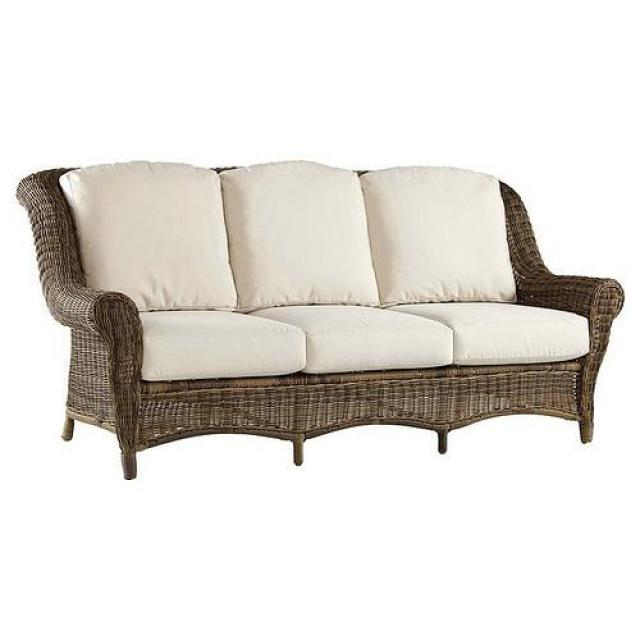sofa: (12, 158, 627, 480)
